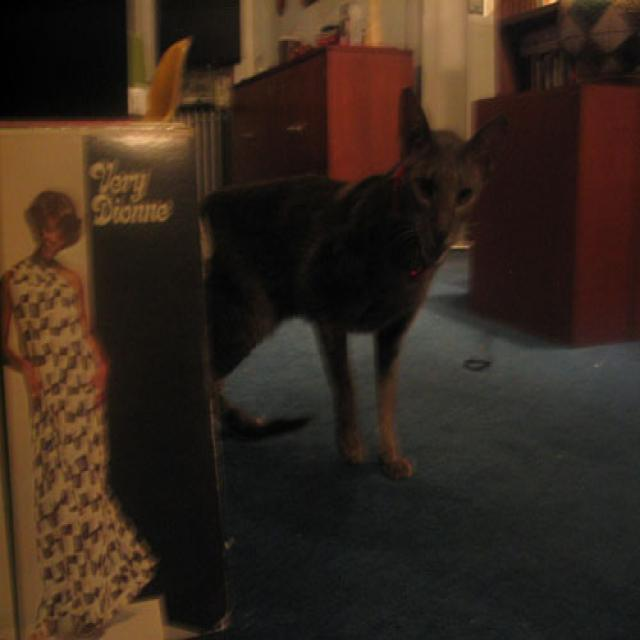Cat: (186, 125, 516, 481)
Table: (191, 20, 425, 242), (464, 85, 640, 368)
